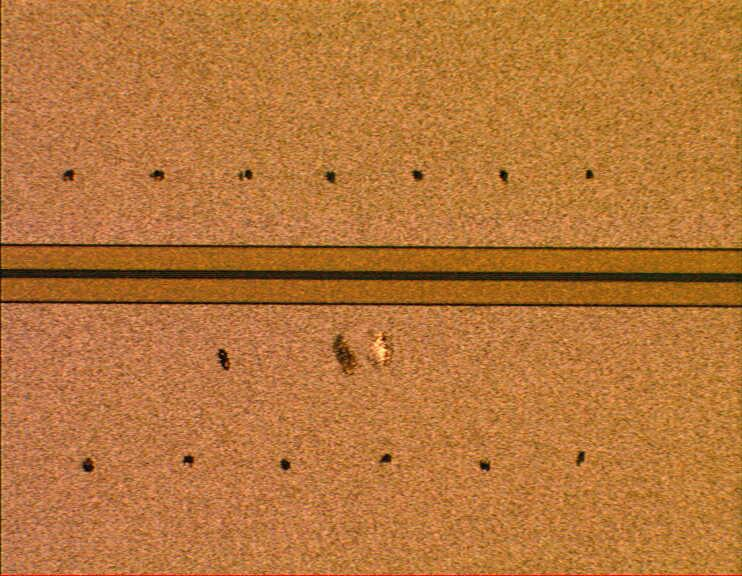SCRATCH: (207, 332, 400, 380)
